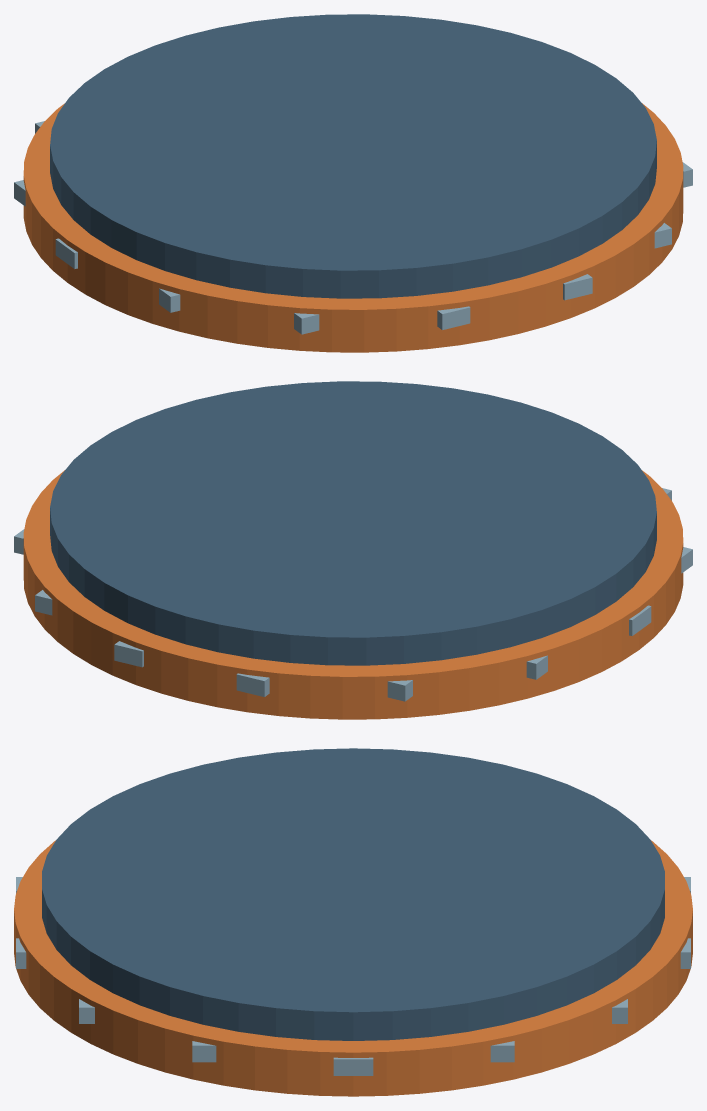
File: 07_L76_PrecisionWaferCathodeChuck.fbx
3 views of the same model, one above another, from view 1: azimuth 30°, elevation 25°; view 2: azimuth 150°, elevation 25°; view 3: azimuth 270°, elevation 25° (orthographic). The views are drawn at different scales.
Parts seen in each view (by area): view 1: PrecisionWaferCathodeChuck, PrecisionWaferCathodeChuck_Part_0006, PrecisionWaferCathodeChuck_Part_0005; view 2: PrecisionWaferCathodeChuck, PrecisionWaferCathodeChuck_Part_0012, PrecisionWaferCathodeChuck_Part_0013; view 3: PrecisionWaferCathodeChuck, PrecisionWaferCathodeChuck_Part_0002.
Part boxes in pixels (x1,y1,x2,y2): PrecisionWaferCathodeChuck: (23,14,683,352); PrecisionWaferCathodeChuck_Part_0006: (437,306,470,329); PrecisionWaferCathodeChuck_Part_0005: (563,274,592,300); PrecisionWaferCathodeChuck: (23,381,683,719); PrecisionWaferCathodeChuck_Part_0012: (236,673,269,696); PrecisionWaferCathodeChuck_Part_0013: (114,641,143,667); PrecisionWaferCathodeChuck: (14,748,692,1096); PrecisionWaferCathodeChuck_Part_0002: (333,1057,373,1075).
Size of the model in its own units: 226 by 26.5 by 224.
